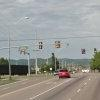Car: (51, 66, 77, 82)
